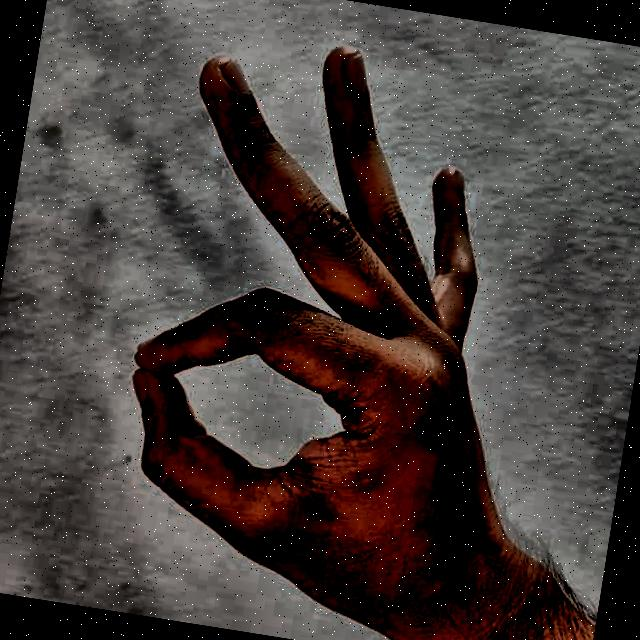Ca: (65, 0, 625, 640)
